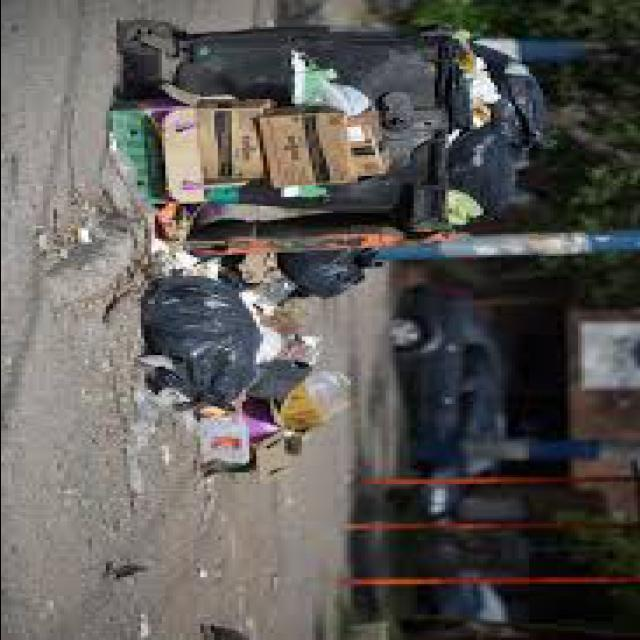Trashbag: (136, 274, 231, 389)
